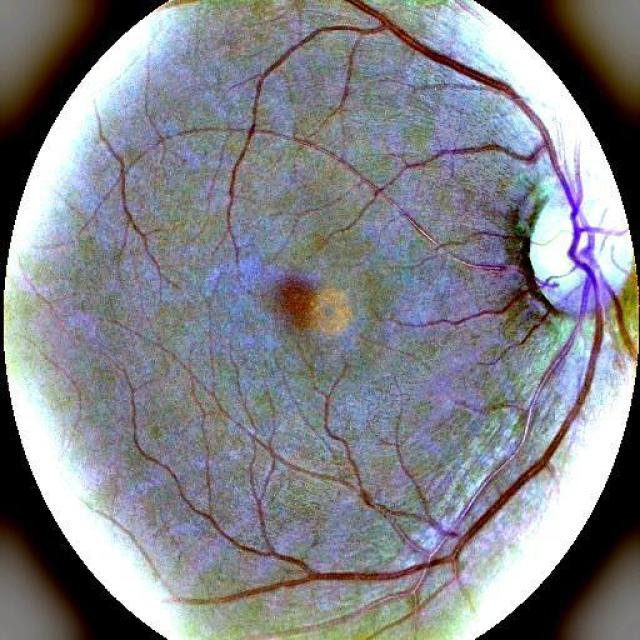Macula: (267, 261, 357, 335)
Nerves: (200, 229, 604, 603), (353, 7, 588, 233)
Optic Disk: (526, 125, 639, 322)
